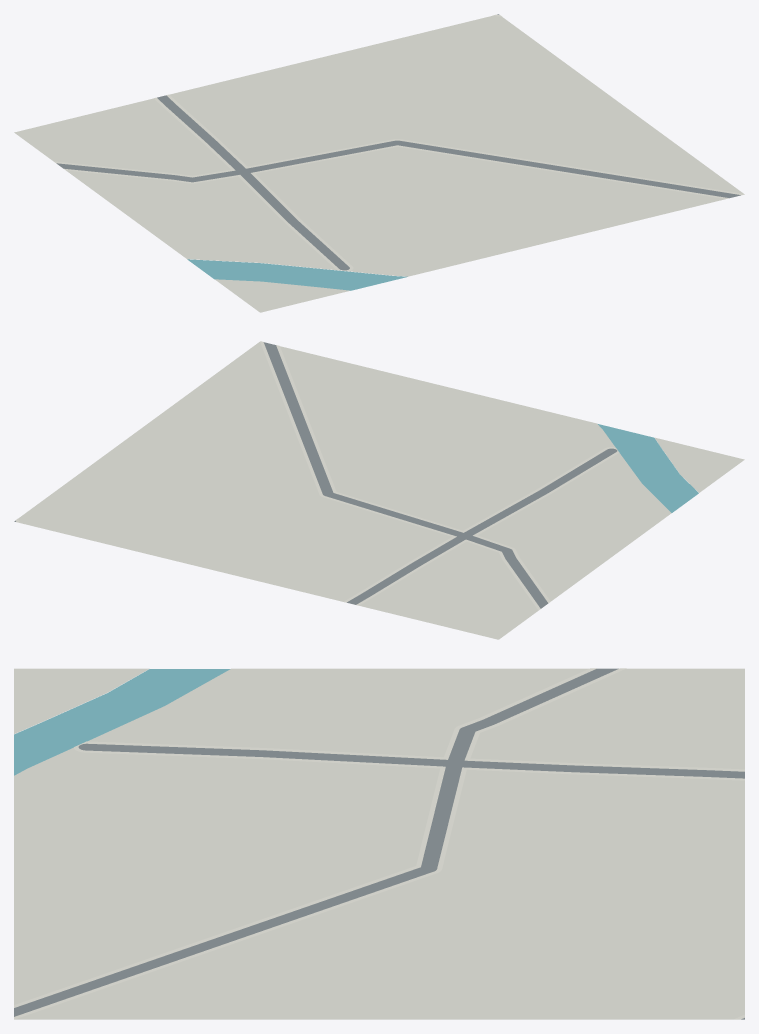
The picture shows the model from 3 angles, top to bottom: view 1: azimuth 30°, elevation 25°; view 2: azimuth 150°, elevation 25°; view 3: azimuth 270°, elevation 25°; orthographic projection. The views are drawn at different scales.
Parts seen in each view (by area): view 1: city; view 2: city; view 3: city.
Part boxes in pixels (x1,y1,x2,y2): city: [14, 14, 744, 312]; city: [14, 341, 744, 639]; city: [14, 668, 744, 1019].
Bounding box in the file's own units: 500 × 0.4 × 440.
